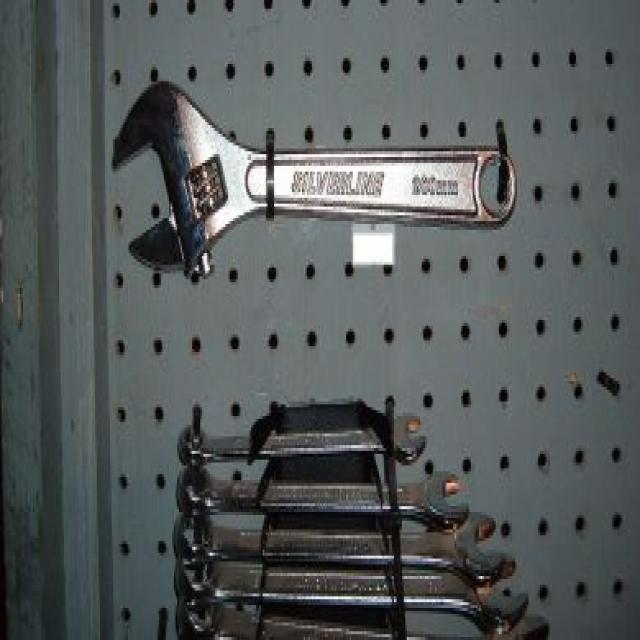wrench: (175, 510, 510, 584), (184, 564, 529, 634), (173, 462, 471, 530), (177, 408, 430, 468)
